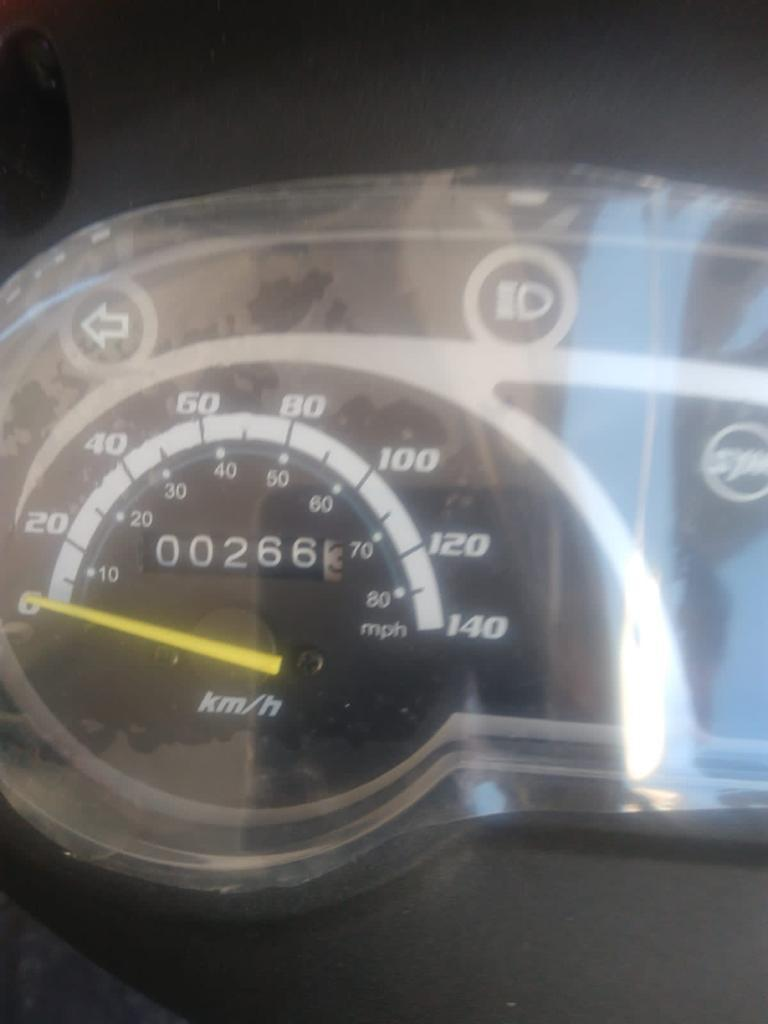0: (154, 533, 180, 567), (188, 534, 213, 568)
2: (222, 534, 248, 569)
3: (327, 542, 347, 573)
6: (290, 534, 317, 569), (256, 534, 282, 567)
odometer: (135, 526, 347, 586)
